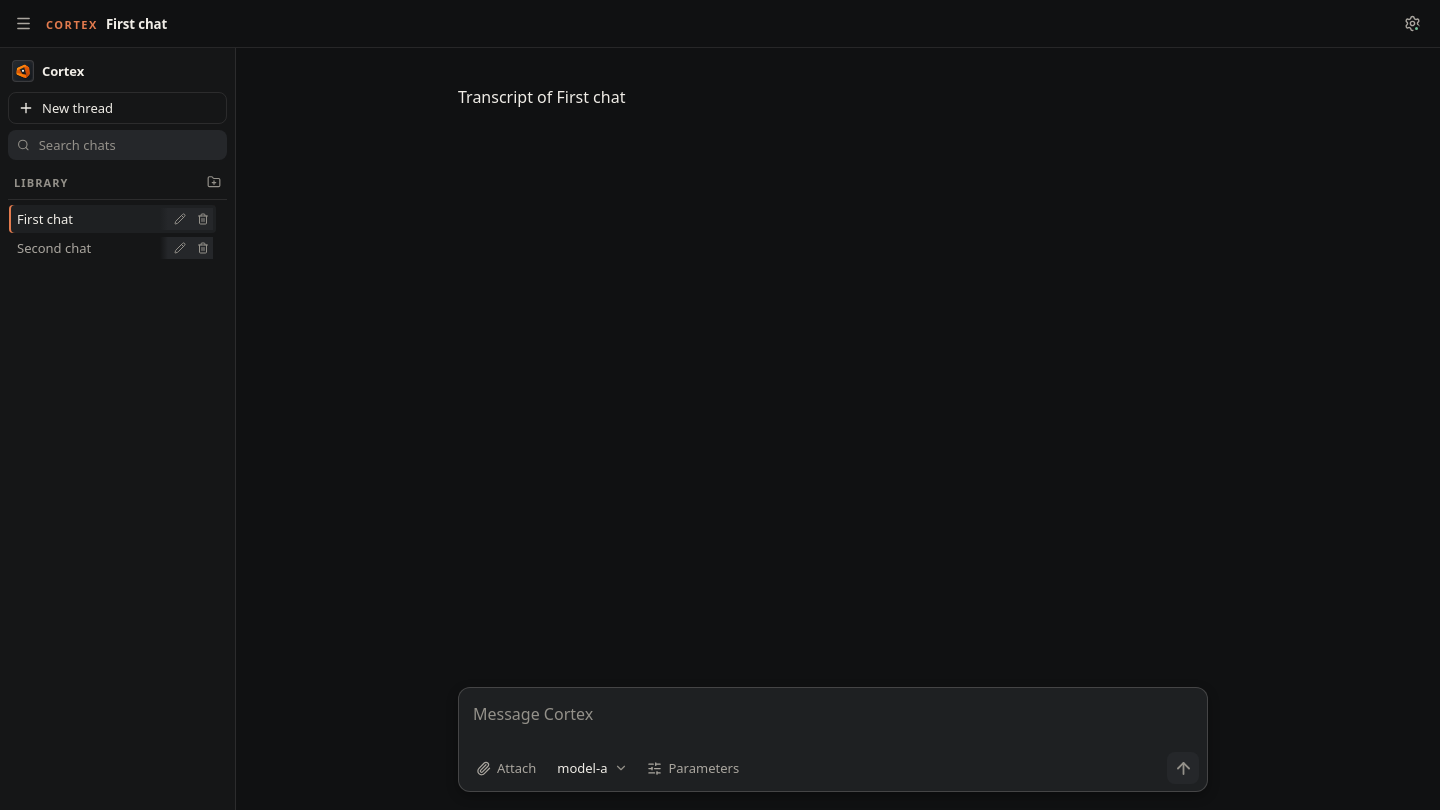
Test: a crash inside one route › leaves the sidebar usable when the settings route crashes
Check: the text "Transcript of First chat" is shown, box x1=458 y1=86 x2=625 y2=108
Click the link named "Settings" at (1412, 24), box x1=1404 y1=15 x2=1420 y2=32
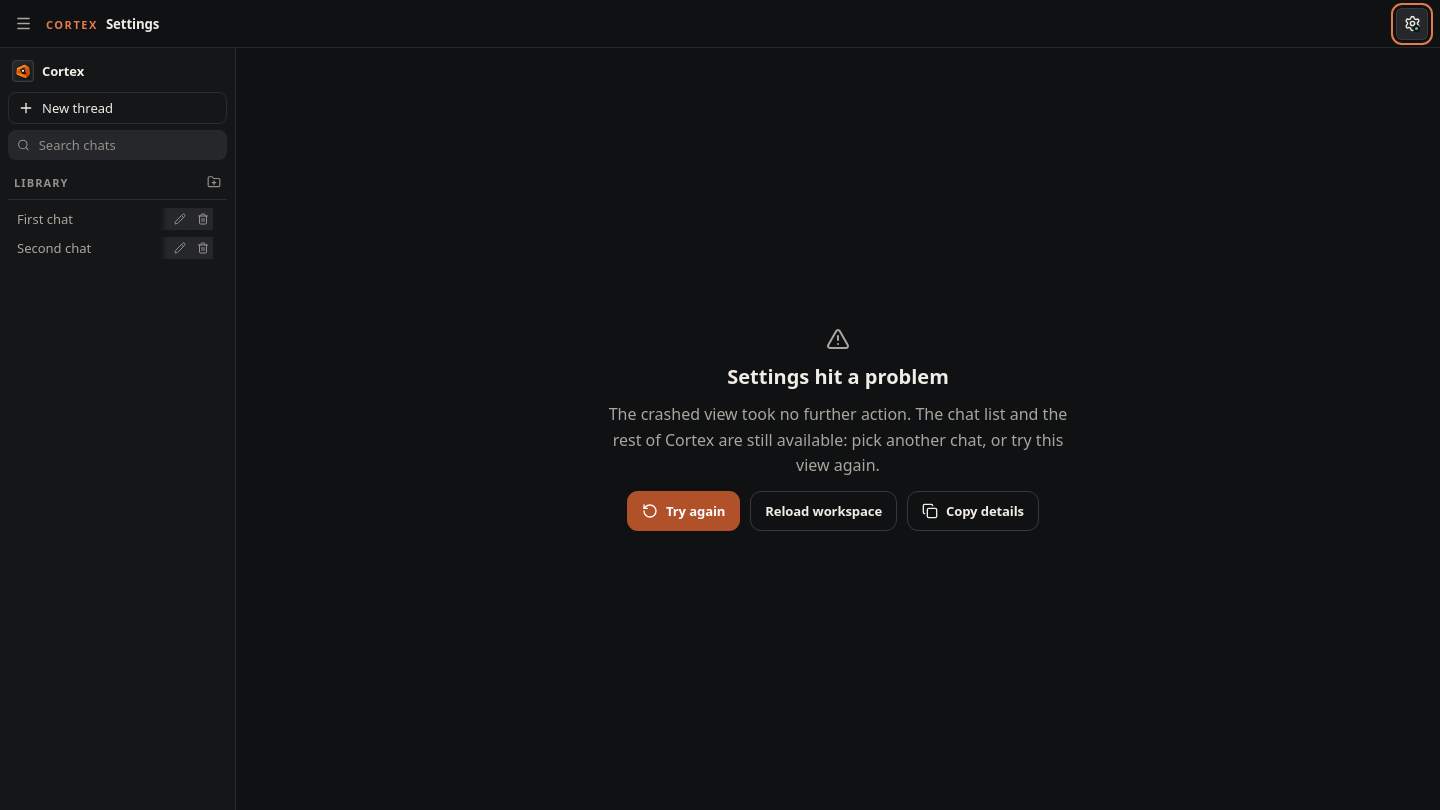
Check: the button "New thread" is shown, box x1=8 y1=92 x2=227 y2=124
Check: the message shows "Settings hit a problem", box x1=609 y1=327 x2=1067 y2=531
And the way out works: choosing a chat leaves the crashed route behind.
Click the button "Second chat" at (112, 248), box x1=9 y1=239 x2=216 y2=257
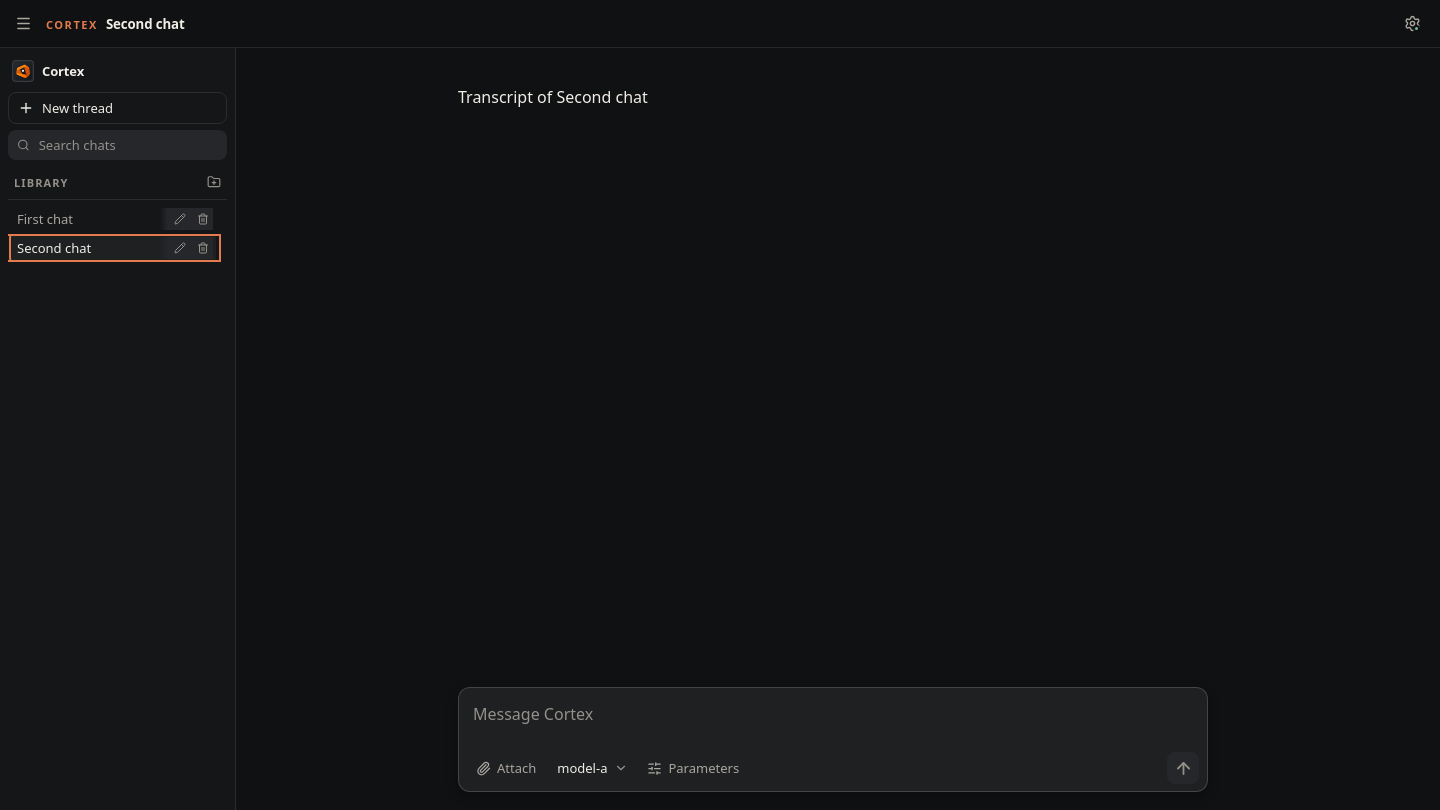
Check: the text "Transcript of Second chat" is shown, box x1=458 y1=86 x2=648 y2=108
Check: the heading "Settings hit a problem" is gone
